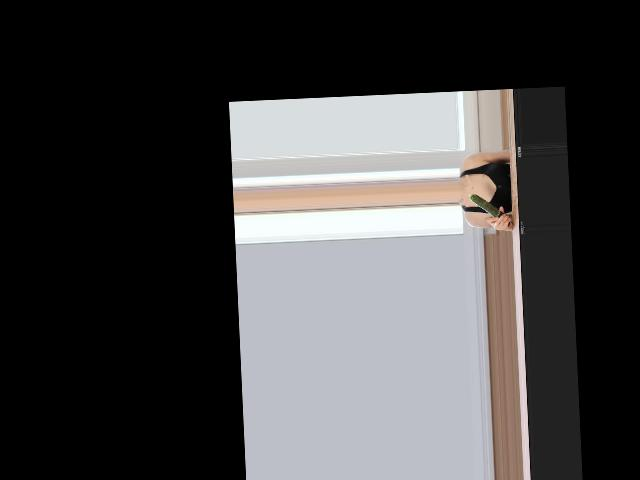cucumber: (469, 192, 510, 228)
